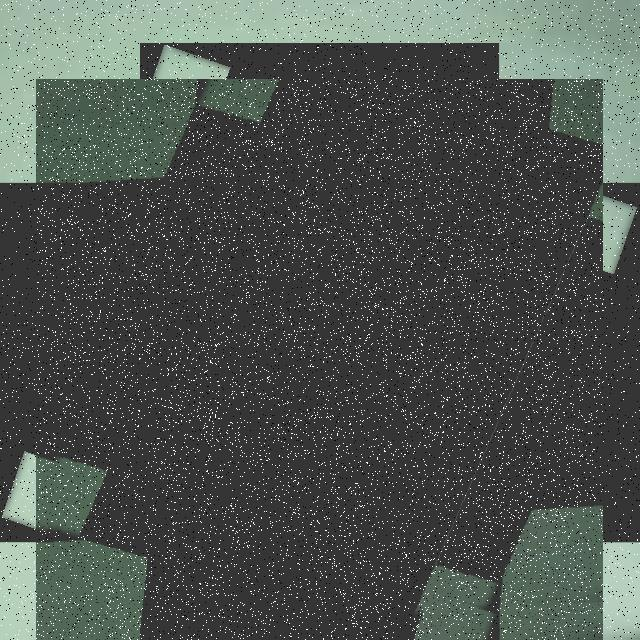dua ribu rupiah: (36, 79, 603, 640)
